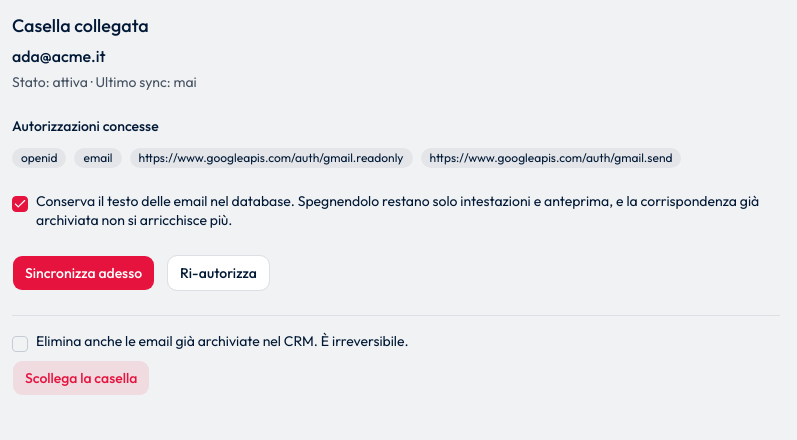
GmailPanel › says a cycle is already running instead of reporting zero
Click the button "Sincronizza adesso": (84, 272) [12,254,155,290]
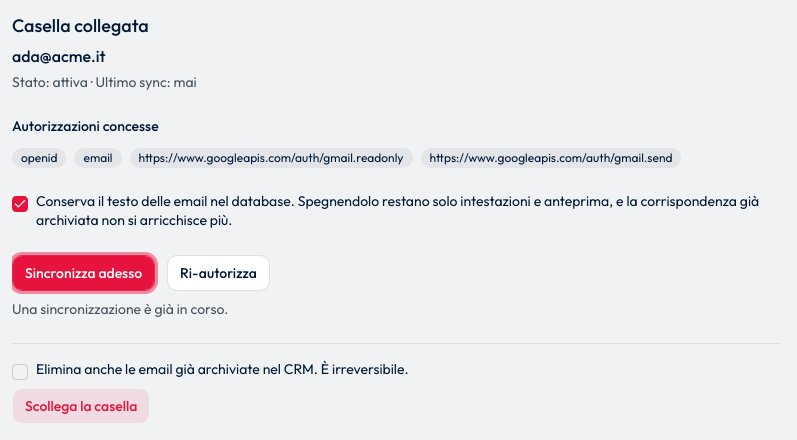
Check: the text "Una sincronizzazione è già in corso." is shown, box [12,300,228,318]
